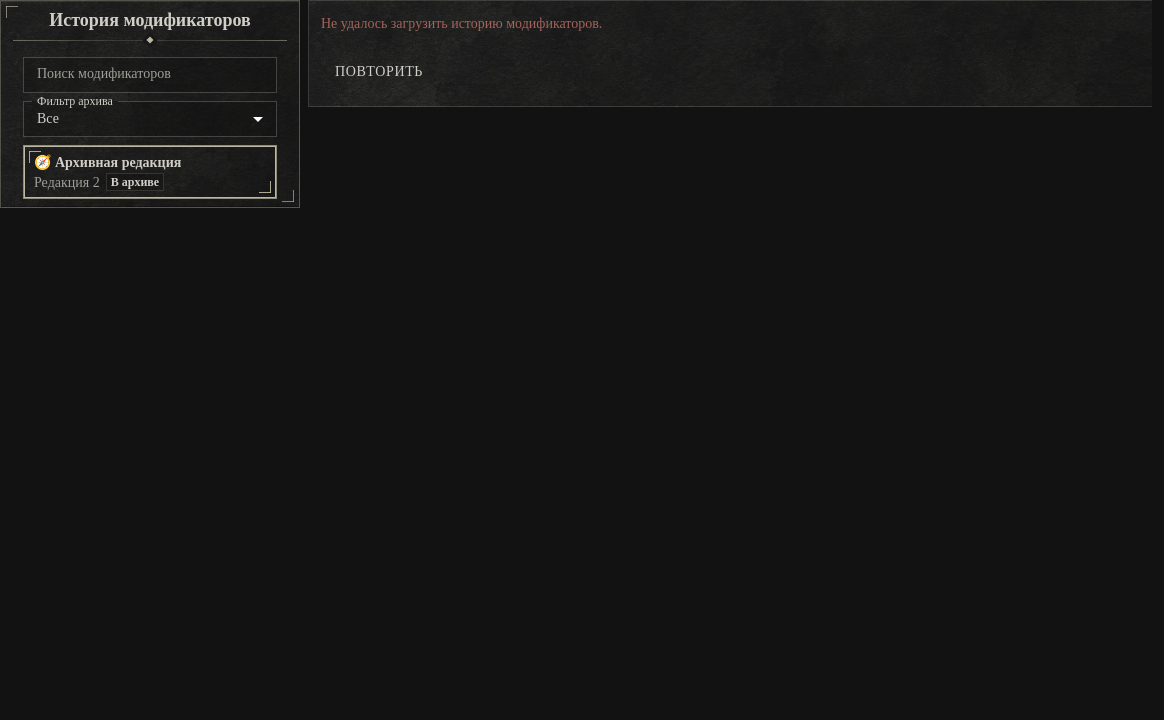
Test: ModifierHistoryPage › retries revision discovery instead of leaving the first selection loading forever
Check: the text "Не удалось загрузить историю модификаторов." is shown, box [321, 13, 602, 34]
Click the button "Повторить": (379, 72) [321, 50, 437, 94]
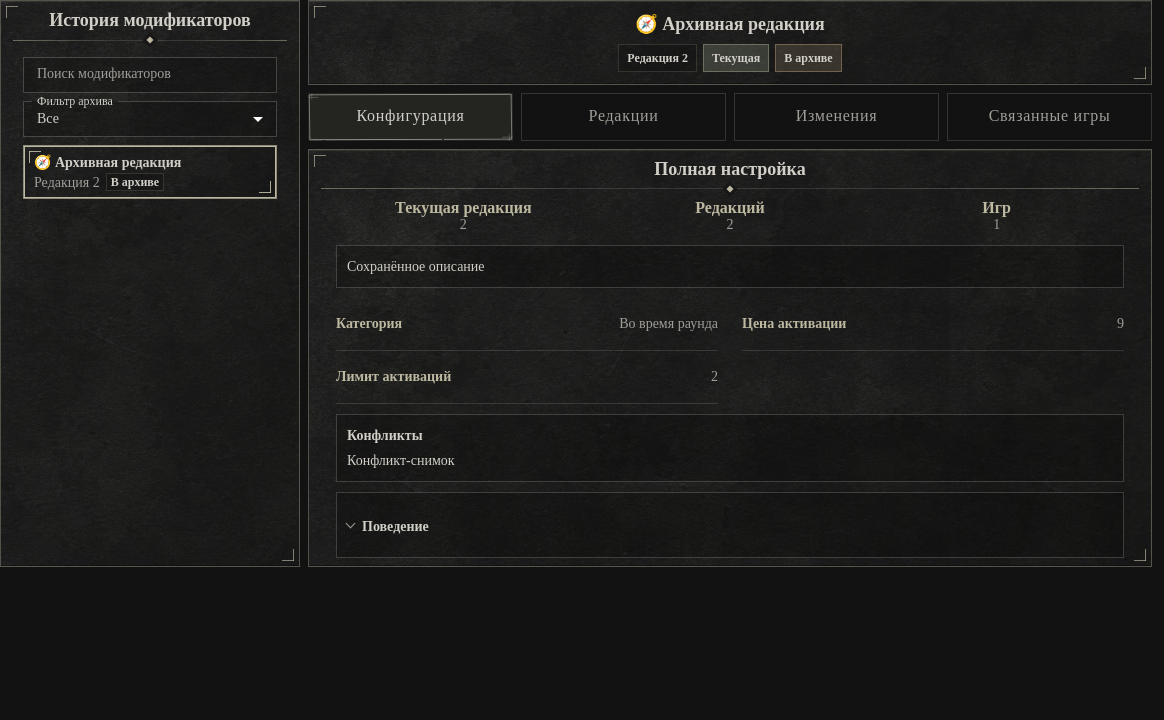
Check: the heading "🧭 Архивная редакция" is shown, box [635, 14, 825, 34]
